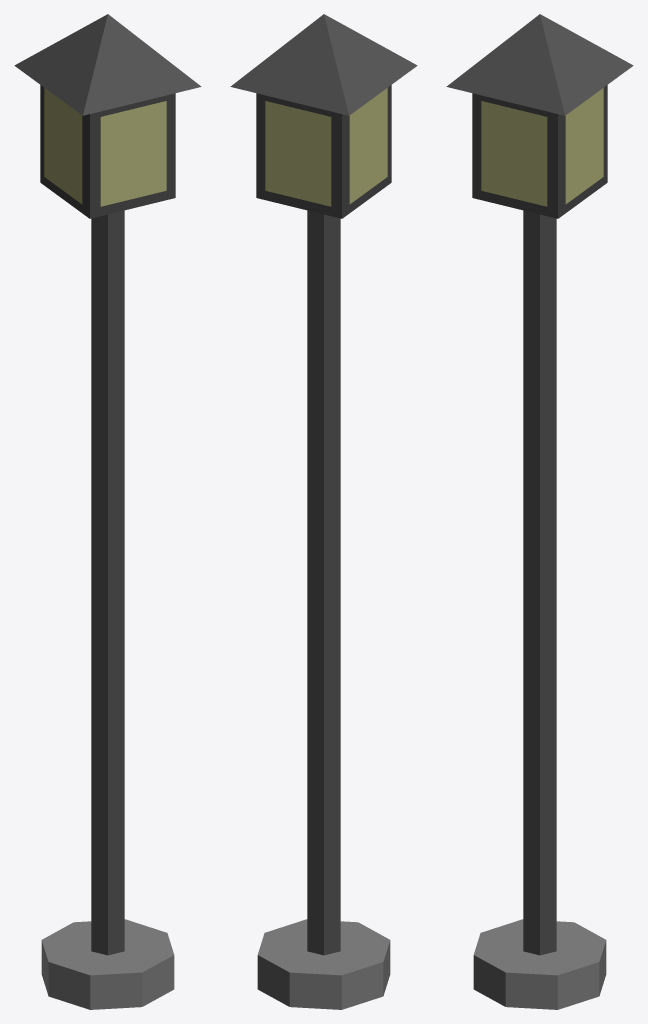
The model's file is lantern.glb.
3 views of the same model, side by side, from view 1: azimuth 30°, elevation 25°; view 2: azimuth 150°, elevation 25°; view 3: azimuth 330°, elevation 25° (orthographic).
Visible parts, largest first — view 1: lantern; view 2: lantern; view 3: lantern.
Part boxes in pixels (x1,y1,x2,y2): lantern: (14,14,201,1009); lantern: (230,14,417,1009); lantern: (446,14,633,1009).
Bounding box in the file's own units: 0.36 × 2.8 × 0.36.
